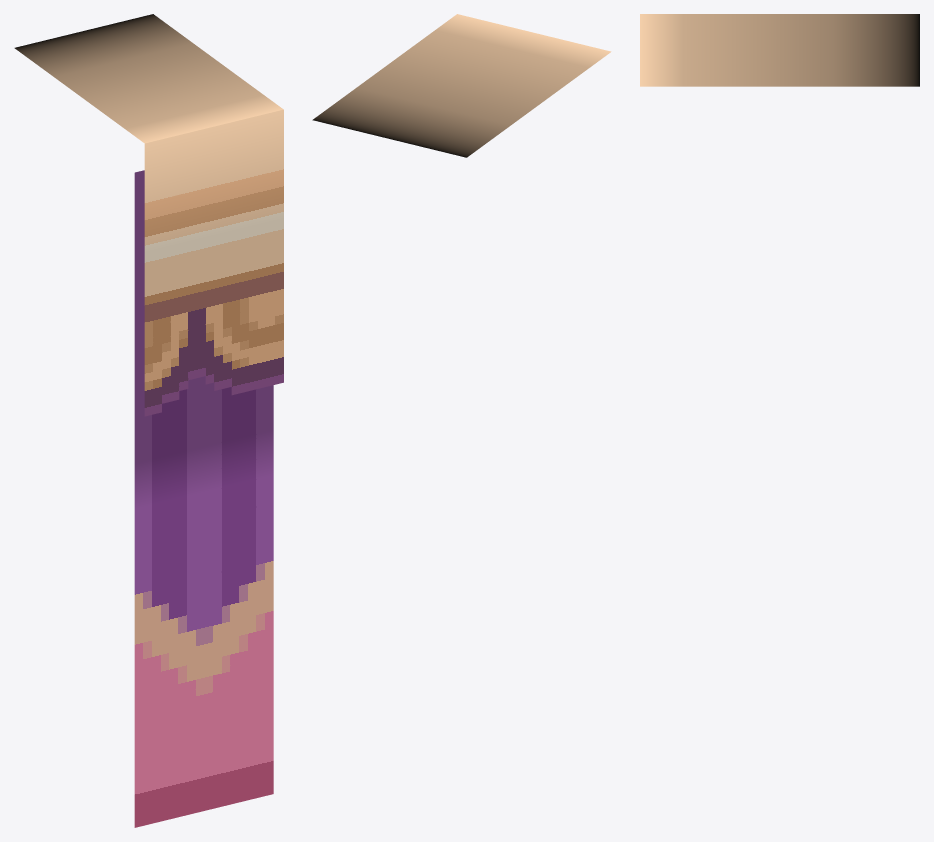
3 renders of one model, left to right at view 1: azimuth 30°, elevation 25°; view 2: azimuth 150°, elevation 25°; view 3: azimuth 270°, elevation 25°, orthographic. The views are drawn at different scales.
Bounding box in the file's own units: 1 × 4.75 × 1.62.
3 materials, 3 textured.
